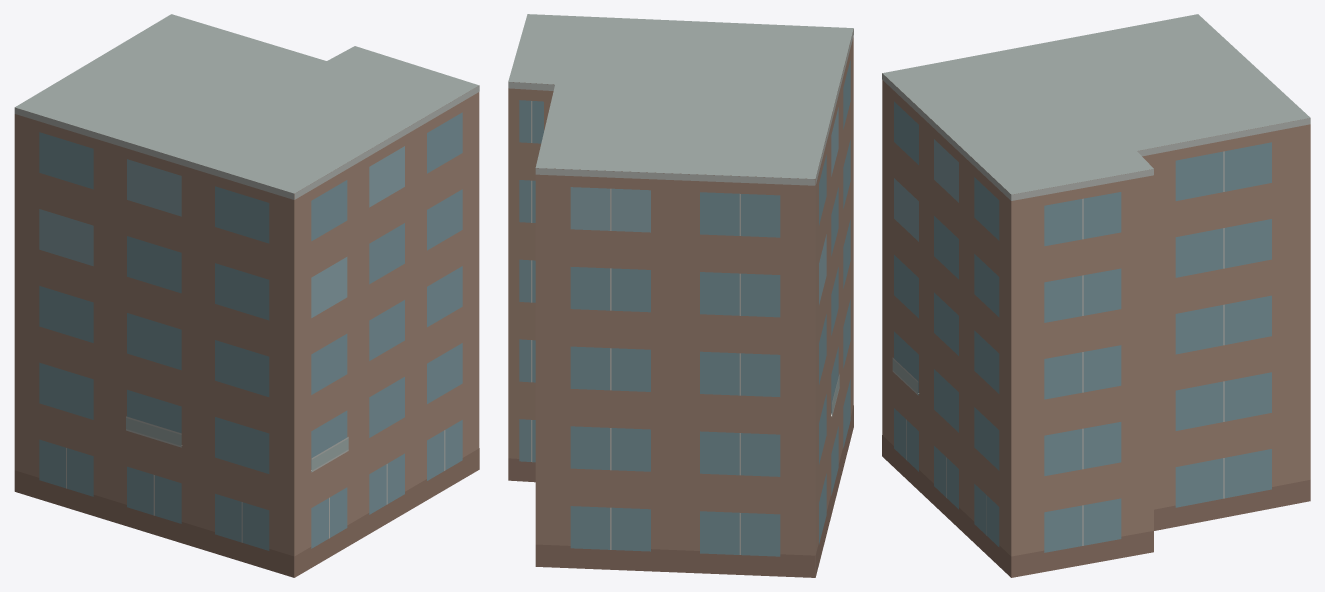
Rendered from survey-upis-32597362.glb.
3 views of the same model, side by side, from view 1: azimuth 30°, elevation 25°; view 2: azimuth 150°, elevation 25°; view 3: azimuth 270°, elevation 25° (orthographic). The views are drawn at different scales.
Visible parts, largest first — view 1: survey-upis-32597362.tmp; view 2: survey-upis-32597362.tmp; view 3: survey-upis-32597362.tmp.
Boxes of the visible parts, x1,y1,x2,y2 form: survey-upis-32597362.tmp: (14,14,479,577); survey-upis-32597362.tmp: (508,14,853,577); survey-upis-32597362.tmp: (882,14,1310,577).
Bounding box in the file's own units: 14.77 × 14.6 × 14.8.
